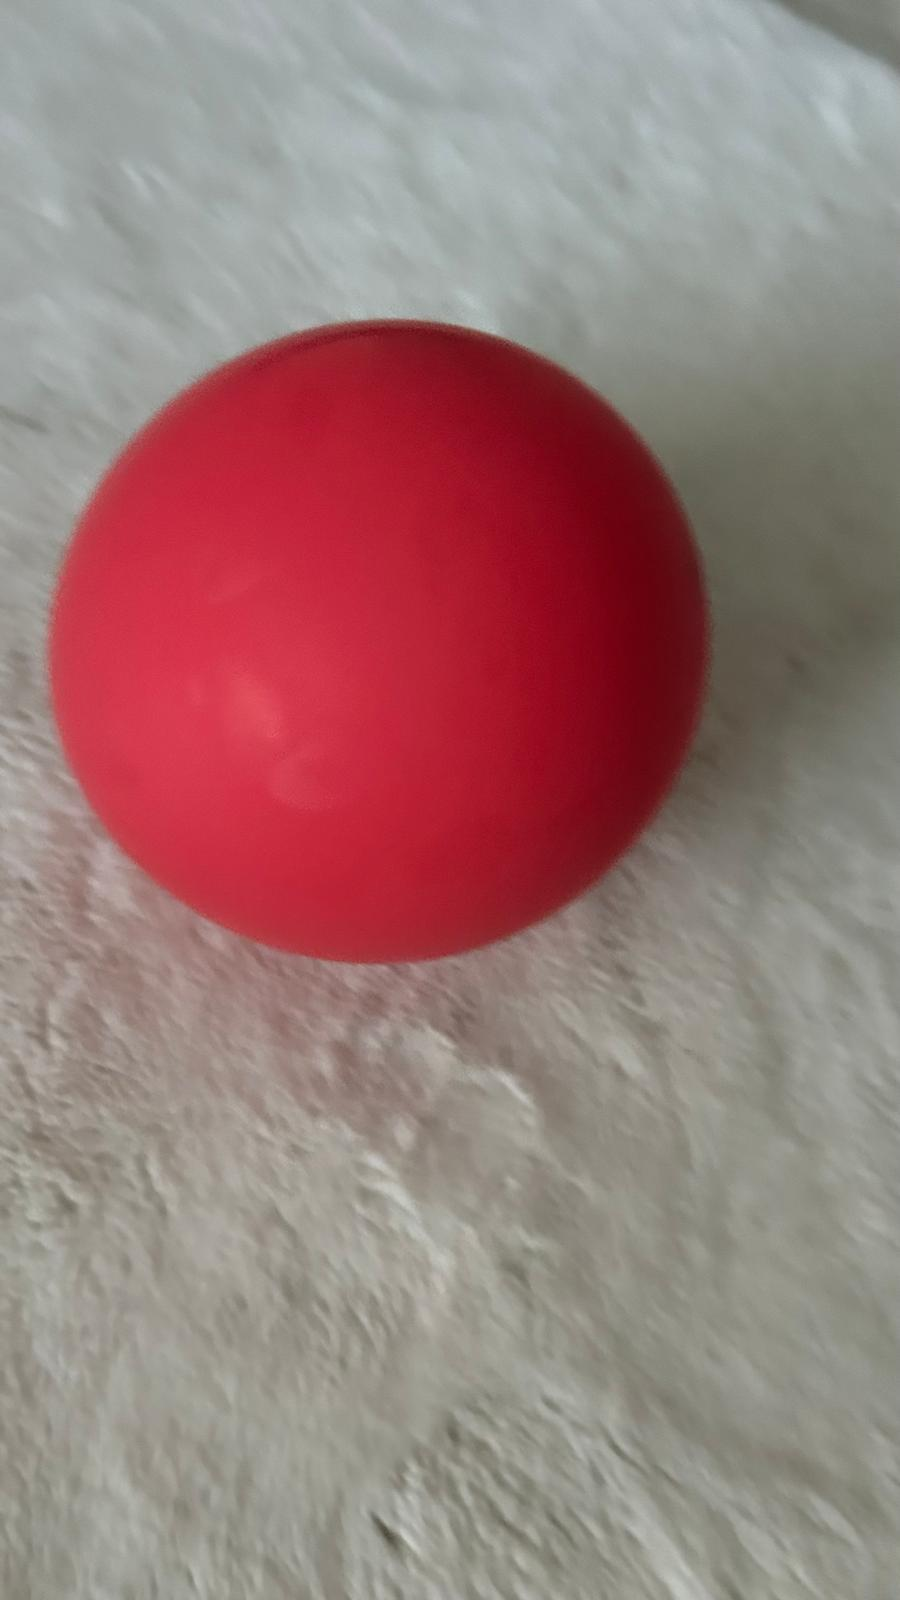red: (44, 318, 716, 964)
